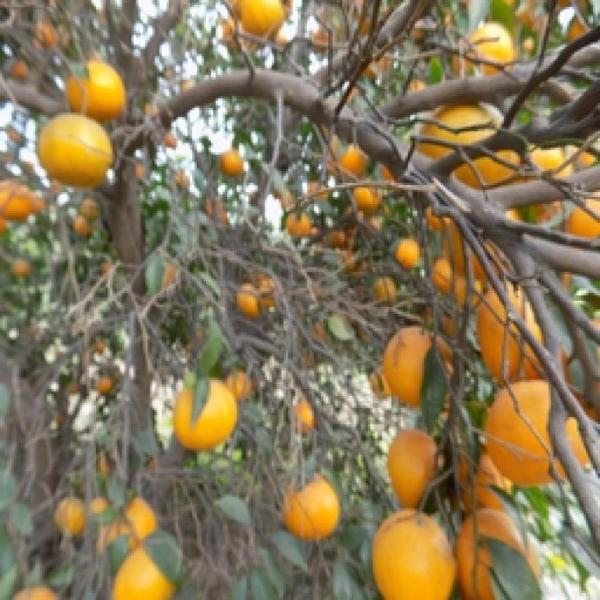Sana: (482, 381, 595, 495), (413, 102, 525, 202), (479, 278, 564, 384), (525, 139, 600, 245), (455, 509, 545, 596), (377, 327, 468, 411), (371, 509, 458, 596), (160, 375, 242, 450), (34, 116, 117, 188), (450, 438, 523, 515), (382, 429, 448, 508), (276, 470, 347, 542), (447, 21, 519, 84), (102, 541, 178, 599), (65, 63, 129, 122), (102, 492, 161, 546), (238, 0, 301, 41), (325, 136, 369, 178), (282, 396, 328, 435), (54, 492, 88, 540), (0, 173, 35, 217), (351, 179, 389, 217), (220, 366, 260, 401), (391, 235, 427, 273), (216, 148, 252, 184), (280, 207, 312, 244), (86, 492, 111, 528)
